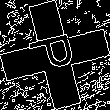P_E: (26, 31, 84, 79)
